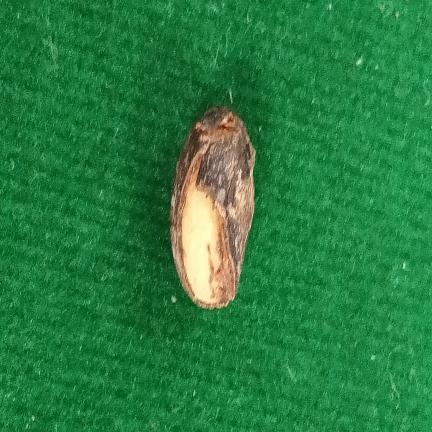full-black: (170, 107, 255, 308)
